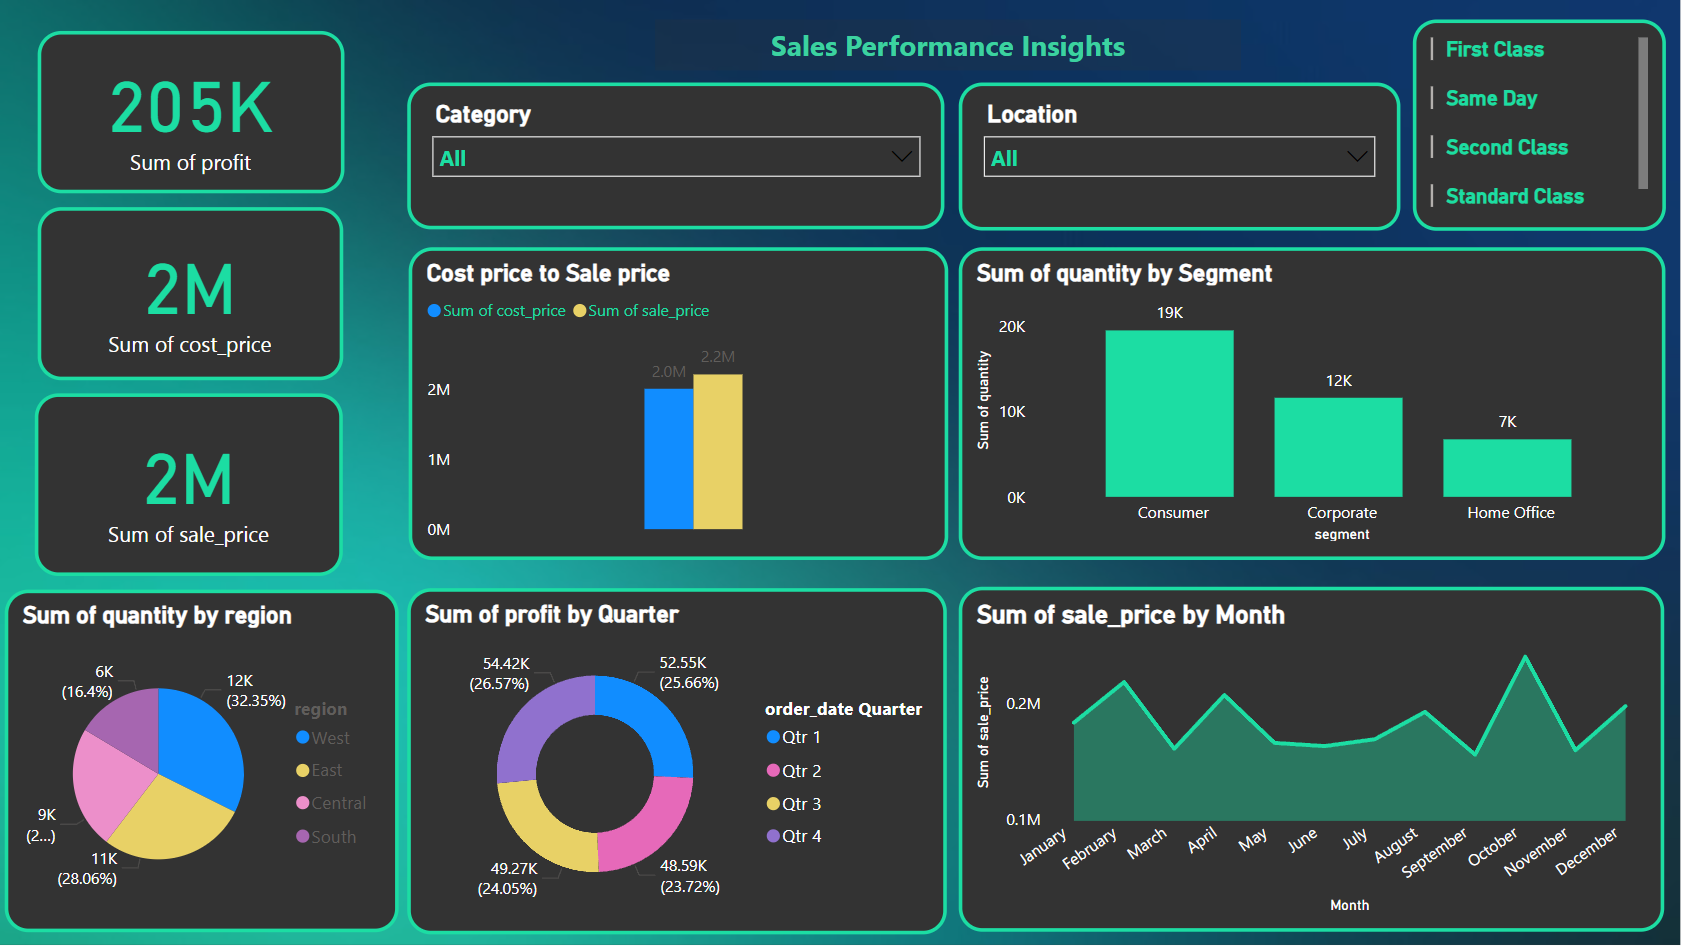

The dashboard page shown, as its layout file describes it:
{"tool":"powerbi","page":{"name":"Sales Performance","canvas":[1280,720],"ordinal":0},"visuals":[{"type":"card","fields":{"Values":["Sum(updated_retail_orders.sale_price)"]},"box":[27.8,299.6,234.8,138.8],"z":0},{"type":"card","fields":{"Values":["Sum(updated_retail_orders.profit)"]},"box":[28.9,24.3,233.6,123.8],"z":1000},{"type":"stackedAreaChart","fields":{"Category":["updated_retail_orders.order_date.Variation.Date Hierarchy.Month"],"Y":["Sum(updated_retail_orders.sale_price)"]},"box":[731.2,447.5,537.5,262.5],"z":2000},{"type":"donutChart","fields":{"Category":["updated_retail_orders.order_date.Variation.Date Hierarchy.Quarter"],"Y":["Sum(updated_retail_orders.profit)"]},"box":[310.4,448,410.7,263.5],"z":3000},{"type":"slicer","fields":{"Values":["updated_retail_orders.country","updated_retail_orders.state","updated_retail_orders.city"]},"box":[731.2,63.8,336.2,112.5],"z":4000},{"type":"slicer","fields":{"Values":["updated_retail_orders.category","updated_retail_orders.sub_category"]},"box":[311.1,63.6,409.4,112.2],"z":5000},{"type":"pieChart","fields":{"Category":["updated_retail_orders.region"],"Y":["Sum(updated_retail_orders.quantity)"]},"box":[4.3,449.1,299.7,261.3],"z":6000},{"type":"clusteredColumnChart","title":"Cost price to Sale price","fields":{"Y":["Sum(updated_retail_orders.cost_price)","Sum(updated_retail_orders.sale_price)"]},"box":[311.5,188.8,410.7,237.9],"z":7000},{"type":"clusteredColumnChart","title":"Sum of quantity by Segment","fields":{"Y":["Sum(updated_retail_orders.quantity)"],"Category":["updated_retail_orders.segment"]},"box":[731,188.5,537.8,238.3],"z":8000},{"type":"multiRowCard","fields":{"Values":["updated_retail_orders.ship_mode"]},"box":[1076.8,15,193.2,160.8],"z":9000},{"type":"card","fields":{"Values":["Sum(updated_retail_orders.cost_price)"]},"box":[28.9,158.5,232.5,131.9],"z":10000},{"type":"shape","box":[500,15,446.2,38.8],"z":11000}]}

Visuals, with their boxes in screenshot pixels (x1, y1, x2, y2), scaled from the page's 1280x720 canvas onto the 1681x946 screenshot:
card - Sum(updated_retail_orders.sale_price): <region>37, 394, 345, 576</region>
card - Sum(updated_retail_orders.profit): <region>38, 32, 345, 195</region>
stackedAreaChart - updated_retail_orders.order_date.Variation.Date Hierarchy.Month x Sum(updated_retail_orders.sale_price): <region>960, 588, 1666, 933</region>
donutChart - updated_retail_orders.order_date.Variation.Date Hierarchy.Quarter x Sum(updated_retail_orders.profit): <region>408, 589, 947, 935</region>
slicer - updated_retail_orders.country x updated_retail_orders.state: <region>960, 84, 1402, 232</region>
slicer - updated_retail_orders.category x updated_retail_orders.sub_category: <region>409, 84, 946, 231</region>
pieChart - updated_retail_orders.region x Sum(updated_retail_orders.quantity): <region>6, 590, 399, 933</region>
"Cost price to Sale price" clusteredColumnChart: <region>409, 248, 948, 561</region>
"Sum of quantity by Segment" clusteredColumnChart: <region>960, 248, 1666, 561</region>
multiRowCard - updated_retail_orders.ship_mode: <region>1414, 20, 1668, 231</region>
card - Sum(updated_retail_orders.cost_price): <region>38, 208, 343, 382</region>
shape: <region>657, 20, 1243, 71</region>
